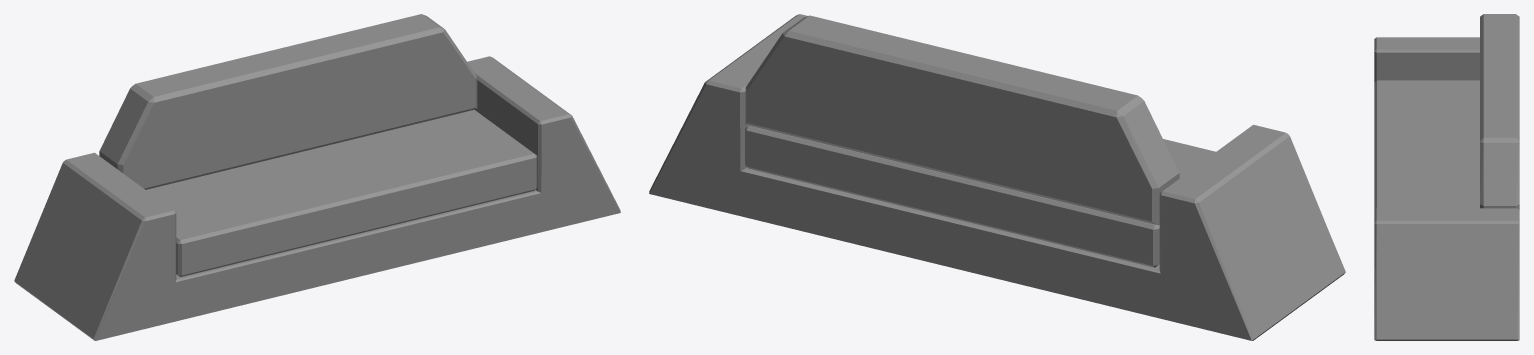
Rendered from couch_A.FBX.
3 renders of one model, left to right at view 1: azimuth 30°, elevation 25°; view 2: azimuth 150°, elevation 25°; view 3: azimuth 270°, elevation 25°, orthographic. The views are drawn at different scales.
Parts seen in each view (by area): view 1: couch_A; view 2: couch_A; view 3: couch_A.
Part boxes in pixels (x1,y1,x2,y2): couch_A: (14, 14, 620, 340); couch_A: (649, 14, 1345, 340); couch_A: (1374, 14, 1519, 340).
Bounding box in the file's own units: 143 × 44.36 × 38.54.
